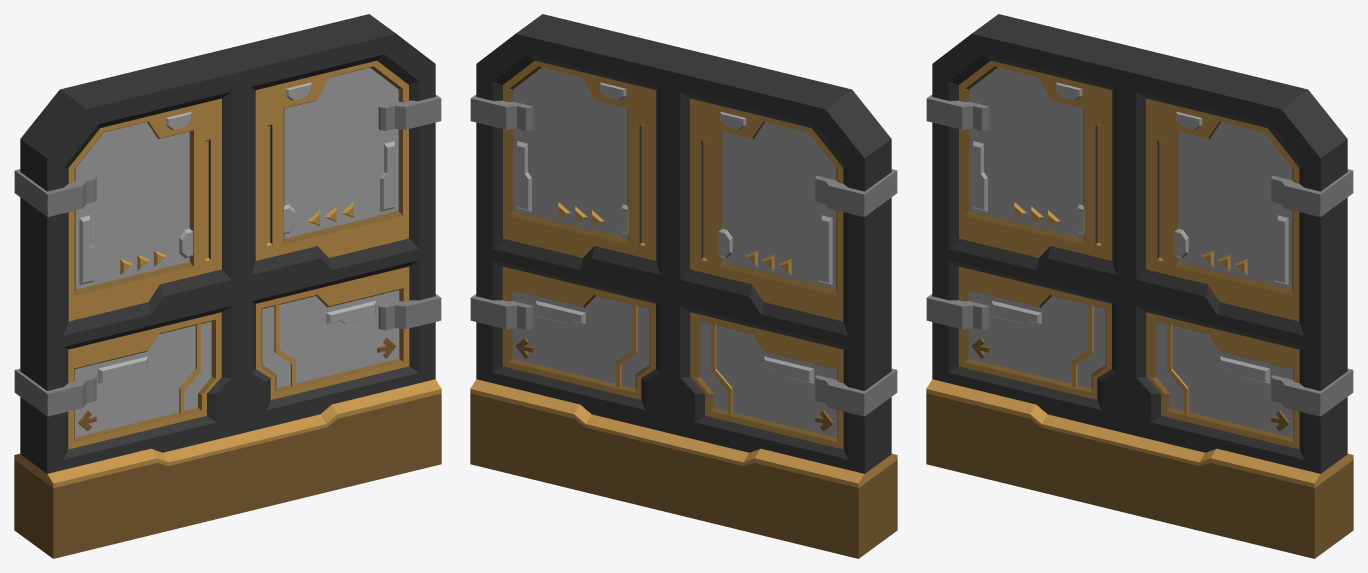
Rendered from Door_Double2.fbx.
The picture shows the model from 3 angles, left to right: view 1: azimuth 30°, elevation 25°; view 2: azimuth 150°, elevation 25°; view 3: azimuth 330°, elevation 25°; orthographic projection.
Visible parts, largest first — view 1: Door_Double.L, Door_Double.R; view 2: Door_Double.L, Door_Double.R; view 3: Door_Double.R, Door_Double.L.
Part boxes in pixels (x1,y1,x2,y2): Door_Double.L: (14,52,247,558); Door_Double.R: (215,14,441,511); Door_Double.L: (664,52,897,558); Door_Double.R: (470,14,696,511); Door_Double.R: (1120,52,1353,558); Door_Double.L: (926,14,1152,511).
Bounding box in the file's own units: 264 × 279 × 45.42.
